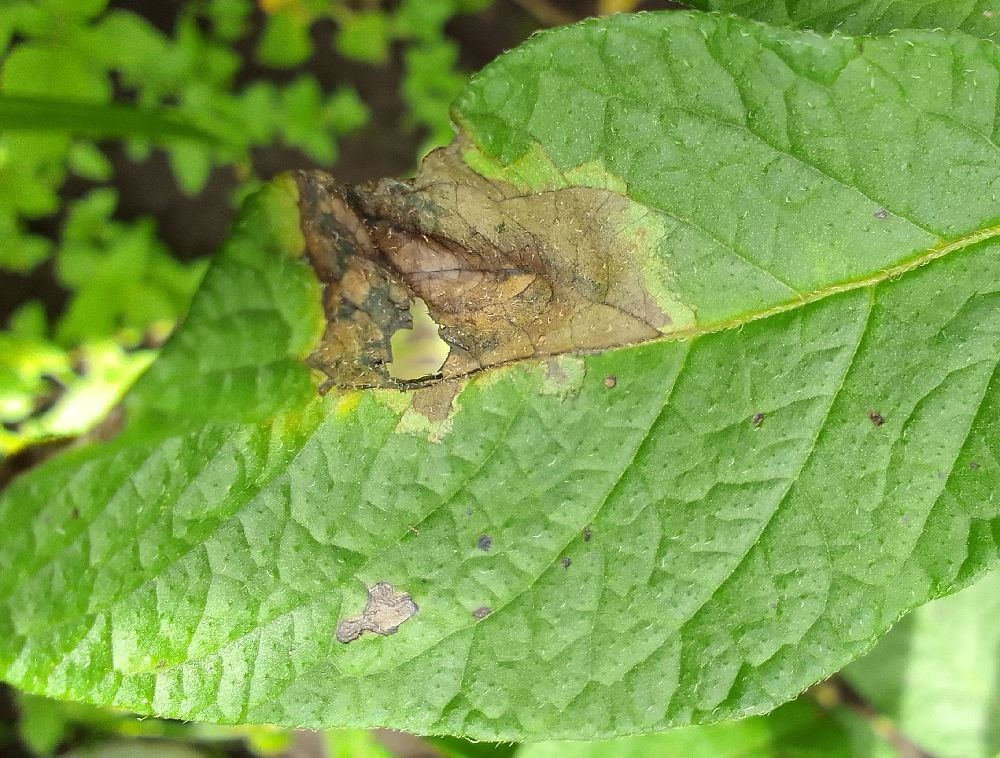late_blight: (96, 3, 686, 439), (794, 663, 889, 727)
